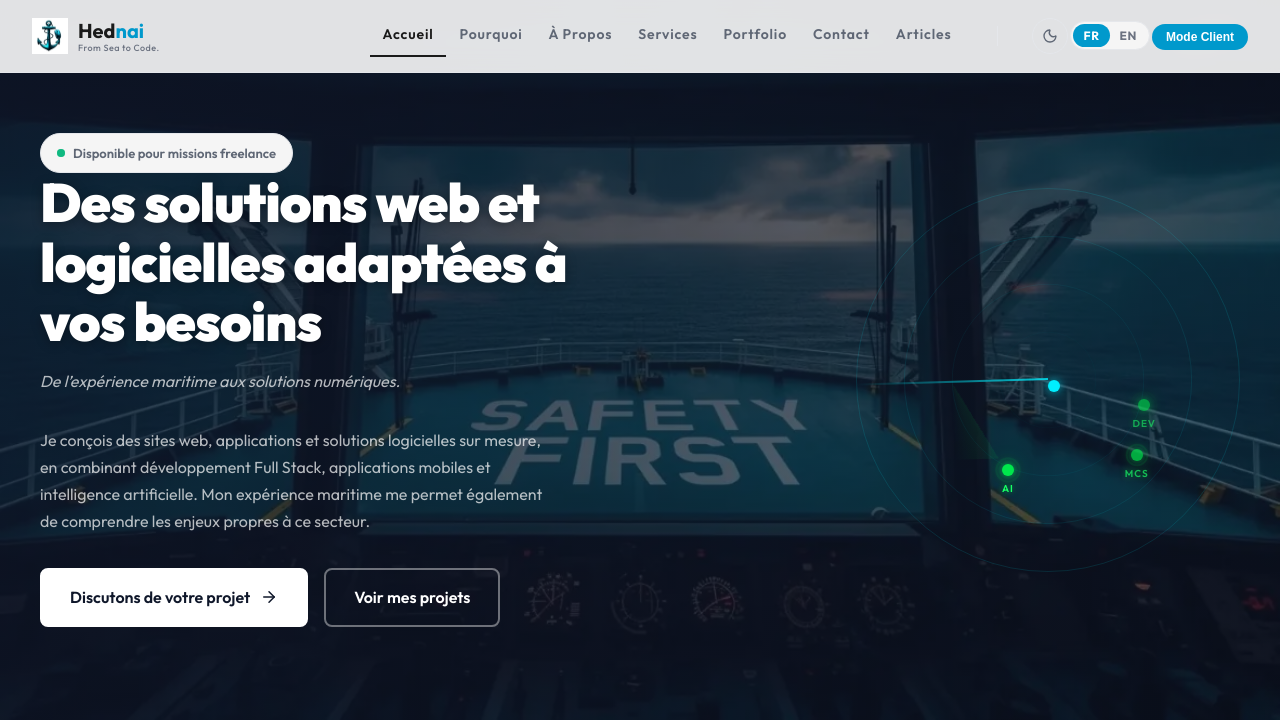
Scenario: Formulaire de contact › ouvre le modal depuis la navbar (lien Contact)
The image size is (1280, 720).
What coordinates should you click on to do the following:
click the link "Contact"
I would click on:
 (842, 34)
Its box is [813,25,870,43].
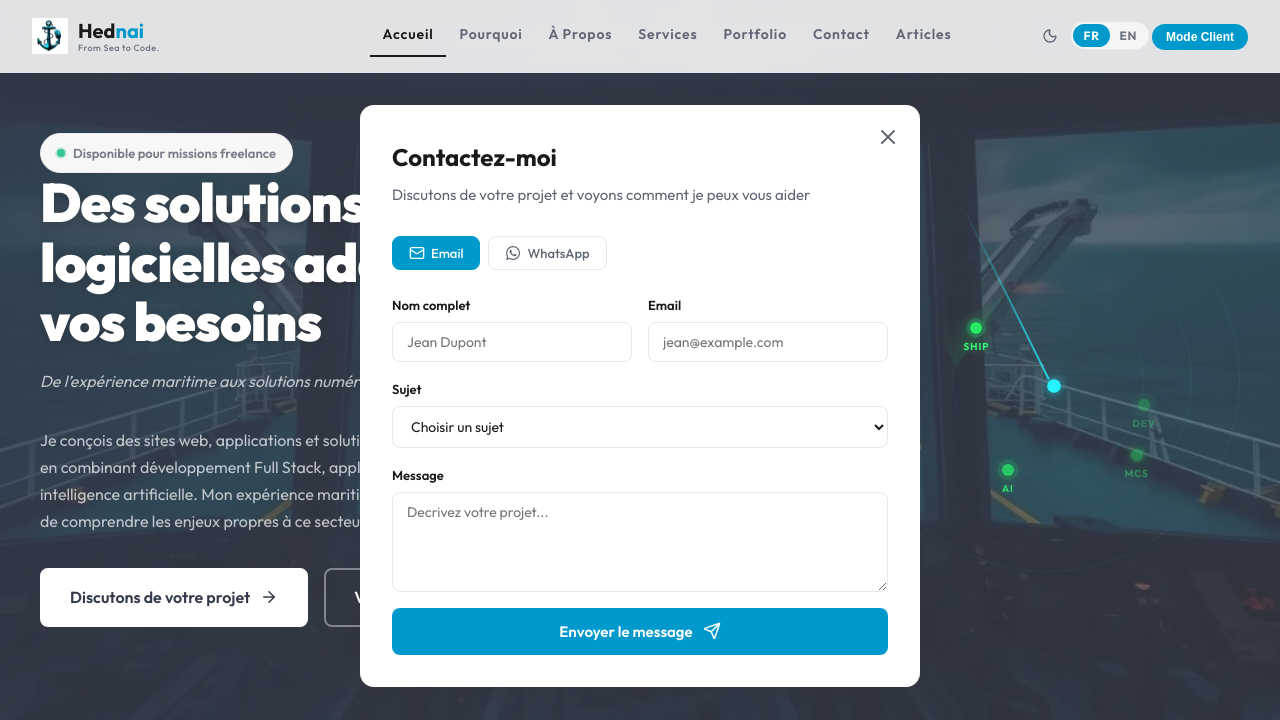
Result: the dialog with class "contact-modal__content" is shown at [360,105,920,687]
